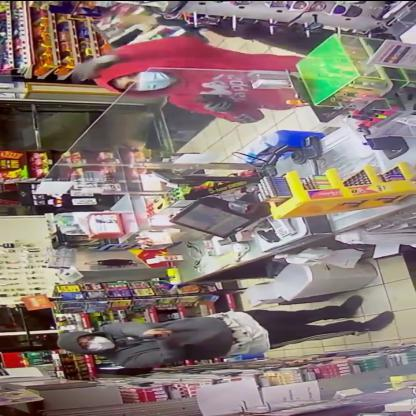Pistol: (179, 84, 236, 112), (130, 325, 178, 347)
